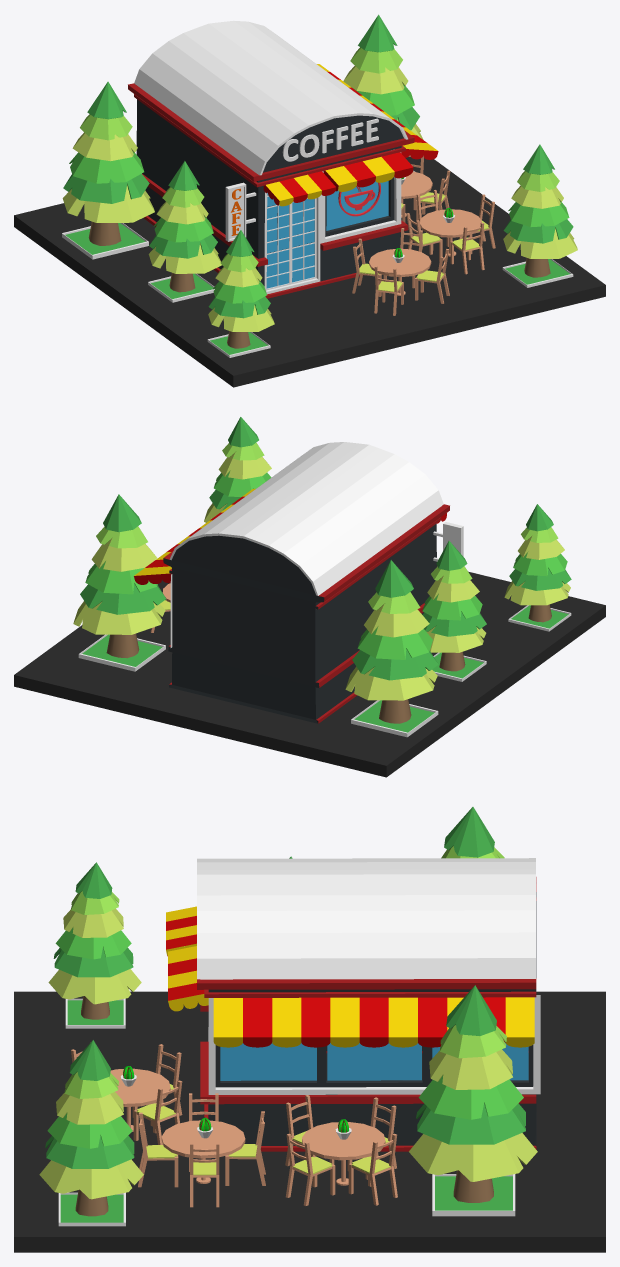
The model's file is cafe.fbx.
The picture shows the model from 3 angles, top to bottom: view 1: azimuth 30°, elevation 25°; view 2: azimuth 150°, elevation 25°; view 3: azimuth 270°, elevation 25°; orthographic projection. The views are drawn at different scales.
Visible parts, largest first — view 1: cafe; view 2: cafe; view 3: cafe.
Part boxes in pixels (left/top/right/bottom): cafe: left=14, top=14, right=605, bottom=387; cafe: left=14, top=417, right=605, bottom=777; cafe: left=14, top=807, right=605, bottom=1252.
Size of the model in its own units: 722 by 335 by 737.
